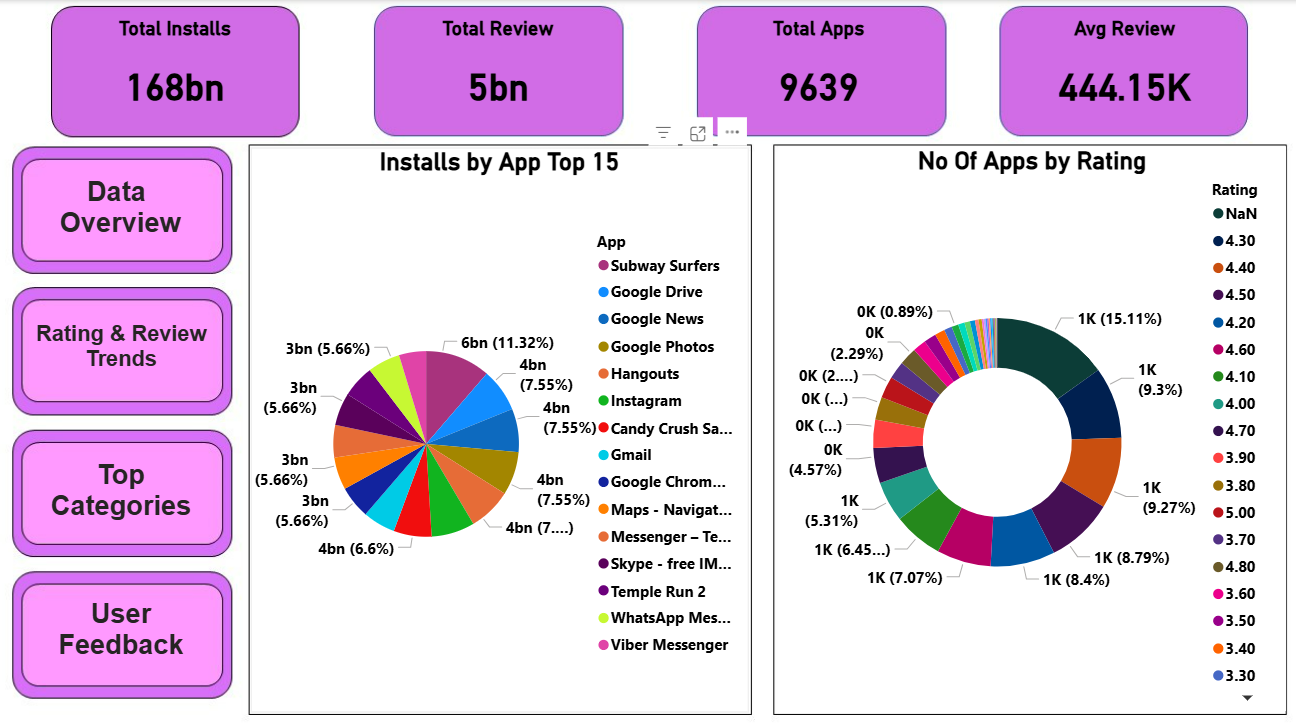

The page's visual inventory and layout, read from the dashboard file:
{"tool":"powerbi","page":{"name":"Page 3","canvas":[1280,720],"ordinal":2},"visuals":[{"type":"pieChart","title":"Installs by App Top 15","fields":{"Category":["Play Store Data.App"],"Y":["Play Store Data.Total Installs"]},"box":[248.7,144.6,488.7,555.2],"z":0},{"type":"donutChart","fields":{"Category":["Play Store Data.Rating"],"Y":["Play Store Data.No Of Apps"]},"box":[766.3,144.1,498.4,554.4],"z":1000},{"type":"card","title":"Avg Review","fields":{"Values":["Play Store Data.Avg Review"]},"box":[1003.4,17.3,206.7,108.4],"z":2000},{"type":"card","title":"Total Apps","fields":{"Values":["Play Store Data.No Of Apps"]},"box":[698.3,17.3,216.9,108.4],"z":3000},{"type":"card","title":"Total Review","fields":{"Values":["Play Store Data.Total Reviews"]},"box":[384.6,17.3,215.4,108.4],"z":4000},{"type":"card","title":"Total Installs","fields":{"Values":["Play Store Data.Total Installs"]},"box":[66.5,17.3,216.9,108.4],"z":5000},{"type":"textbox","box":[30.4,582.7,182.2,83.9],"z":6000},{"type":"textbox","box":[30.4,446.7,182.2,78.1],"z":7000},{"type":"textbox","box":[13,310.8,216.9,70.8],"z":8000},{"type":"textbox","box":[39,167.7,163.4,76.6],"z":9000}]}

Visuals, with their boxes in screenshot pixels (x1, y1, x2, y2), scaled from the page's 1280x720 canvas onto the 1296x726 screenshot:
"Installs by App Top 15" pieChart: <bbox>252, 146, 747, 706</bbox>
donutChart - Play Store Data.Rating x Play Store Data.No Of Apps: <bbox>776, 145, 1281, 704</bbox>
"Avg Review" card: <bbox>1016, 17, 1225, 127</bbox>
"Total Apps" card: <bbox>707, 17, 927, 127</bbox>
"Total Review" card: <bbox>389, 17, 608, 127</bbox>
"Total Installs" card: <bbox>67, 17, 287, 127</bbox>
textbox: <bbox>31, 588, 215, 672</bbox>
textbox: <bbox>31, 450, 215, 529</bbox>
textbox: <bbox>13, 313, 233, 385</bbox>
textbox: <bbox>39, 169, 205, 246</bbox>
